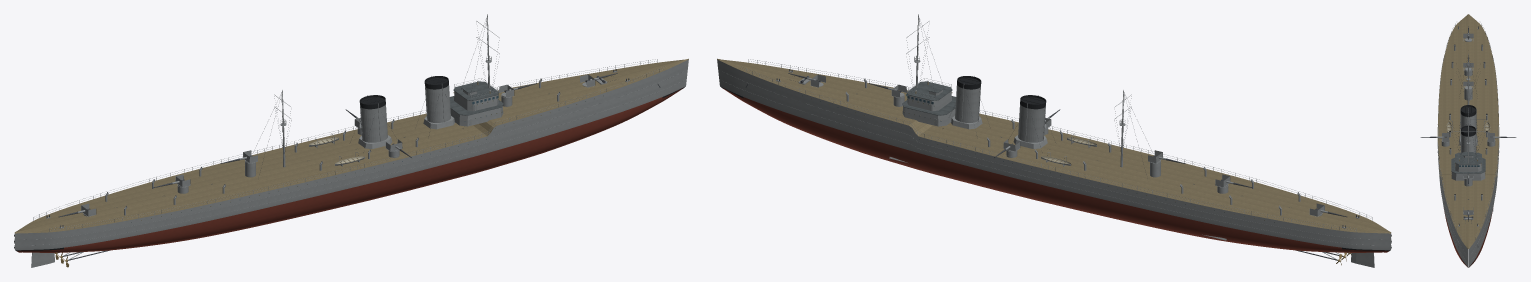
The model's file is hawkins.glb.
The picture shows the model from 3 angles, left to right: view 1: azimuth 30°, elevation 25°; view 2: azimuth 150°, elevation 25°; view 3: azimuth 270°, elevation 25°; orthographic projection. The views are drawn at different scales.
Visible parts, largest first — view 1: Hawkins class; view 2: Hawkins class; view 3: Hawkins class.
Boxes of the visible parts, x1,y1,x2,y2 form: Hawkins class: (14,14,688,267); Hawkins class: (717,14,1391,267); Hawkins class: (1420,14,1516,267).
Bounding box in the file's own units: 184 × 37.75 × 31.08.
9 materials, 8 textured.
